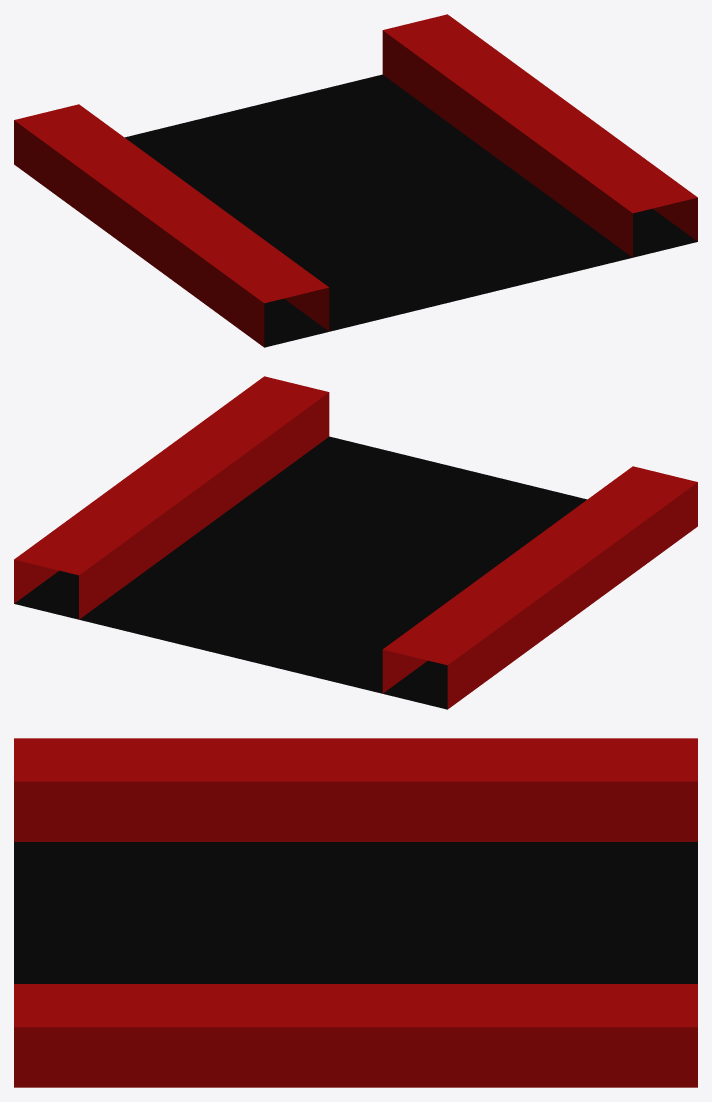
The model's file is road_straight.fbx.
3 renders of one model, top to bottom at view 1: azimuth 30°, elevation 25°; view 2: azimuth 150°, elevation 25°; view 3: azimuth 270°, elevation 25°, orthographic. The views are drawn at different scales.
Parts seen in each view (by area): view 1: road_straight; view 2: road_straight; view 3: road_straight.
Part boxes in pixels (x1,y1,x2,y2): road_straight: (14, 14, 697, 347); road_straight: (14, 376, 697, 709); road_straight: (14, 738, 697, 1087).
Bounding box in the file's own units: 20 × 1.95 × 20.
